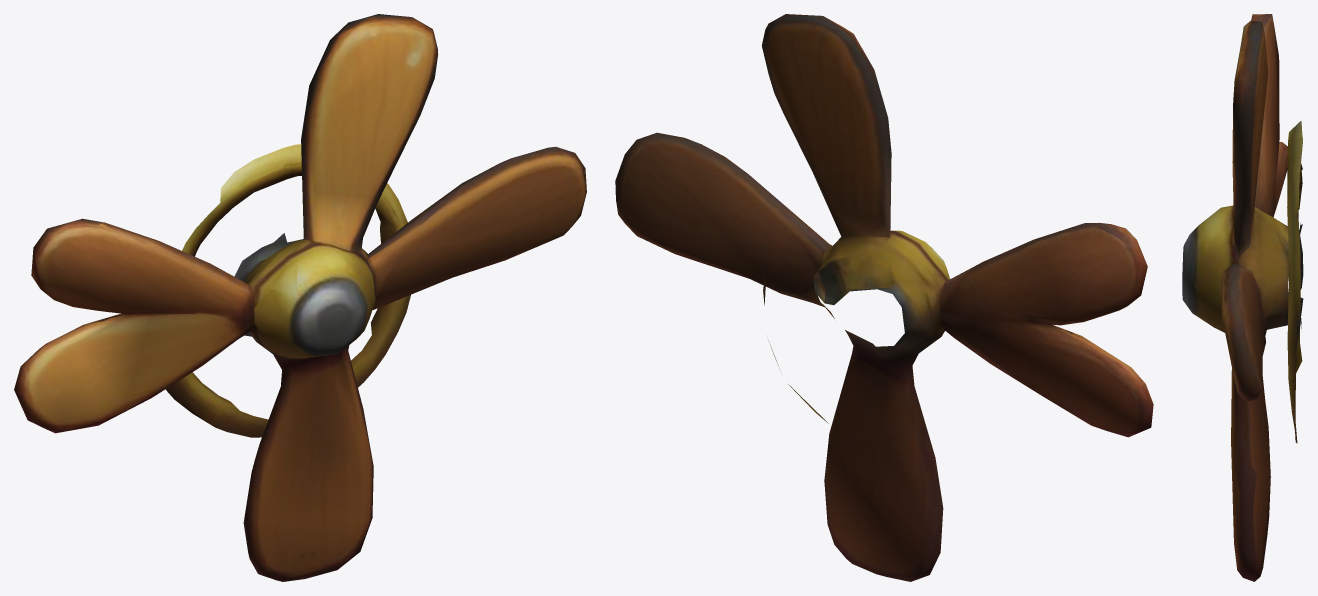
File: engine_prop.glb
3 views of the same model, side by side, from view 1: azimuth 30°, elevation 25°; view 2: azimuth 150°, elevation 25°; view 3: azimuth 270°, elevation 25° (orthographic). The views are drawn at different scales.
Visible parts, largest first — view 1: geometry_0; view 2: geometry_0; view 3: geometry_0.
Part boxes in pixels (x1,y1,x2,y2): geometry_0: (14, 14, 586, 581); geometry_0: (615, 14, 1153, 581); geometry_0: (1182, 14, 1303, 581).
Size of the model in its own units: 2.65 by 2.5 by 0.4767.
Materials: 1 (1 with a texture image).
